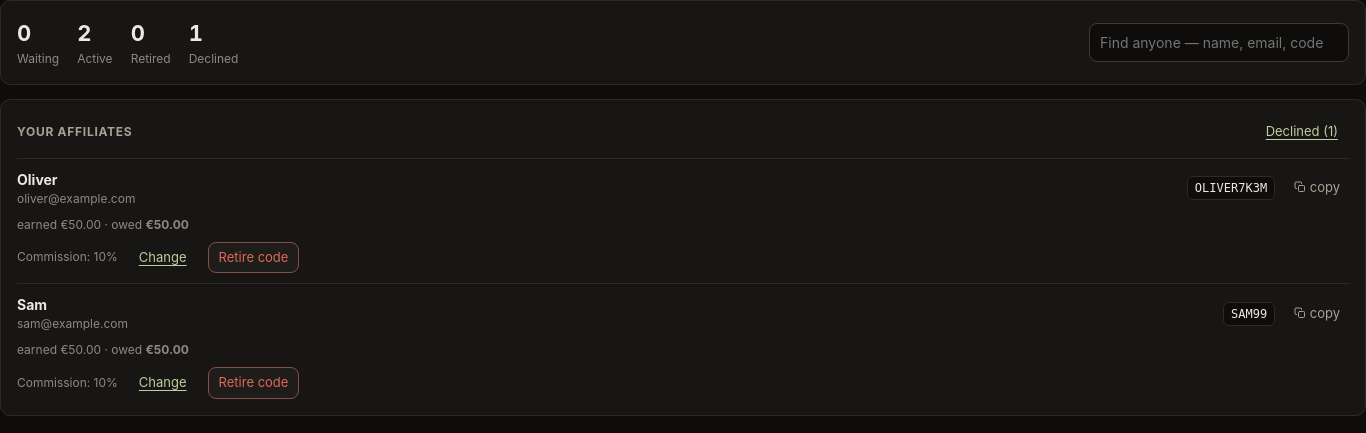
Scenario: finding one person among many (founder, 2026-08-23) › finds anyone by name, email, code or what they said at sign-up — including the declined
The image size is (1366, 433).
Type "maria" into the search field named "find an affiliate" at {"x": 1219, "y": 42}, box x1=1089 y1=23 x2=1349 y2=62
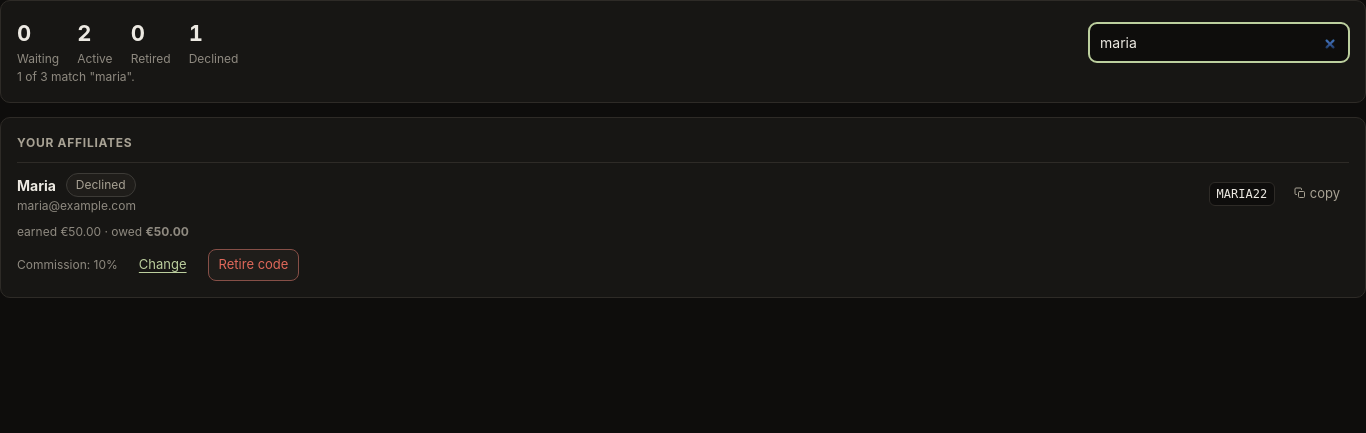
Result: the text "1 of 3 match \"maria\"." is shown at x1=17 y1=69 x2=135 y2=84
Result: the text "Maria" is shown at x1=17 y1=174 x2=56 y2=196
Result: the text "Oliver" is gone
Replace the text in the search field named "find an affiliate" with "youtube" at {"x": 1219, "y": 42}, box x1=1089 y1=23 x2=1349 y2=62
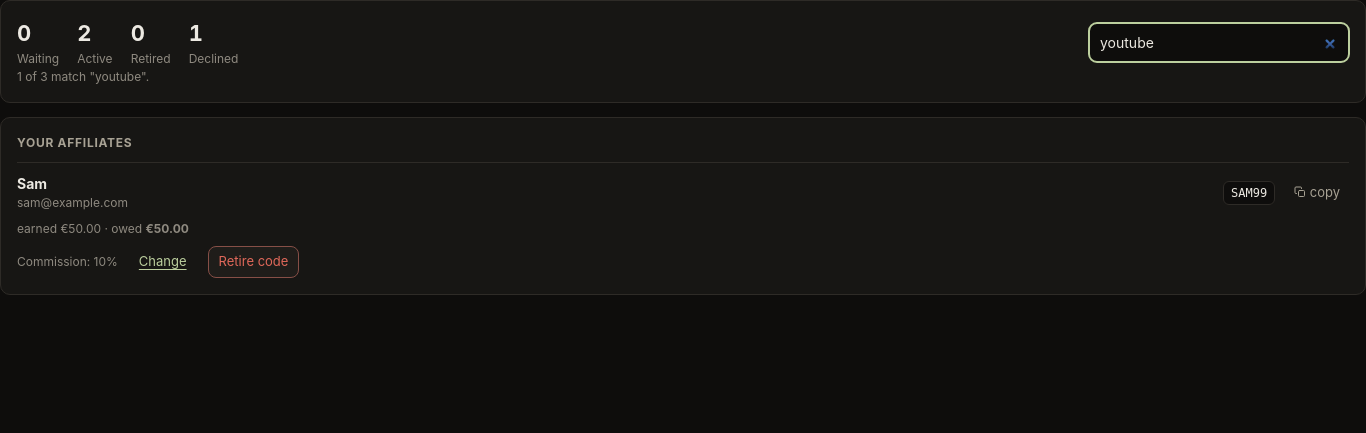
Result: the text "Sam" is shown at x1=17 y1=173 x2=47 y2=194
Replace the text in the search field named "find an affiliate" with "zzz" at {"x": 1219, "y": 42}, box x1=1089 y1=23 x2=1349 y2=62
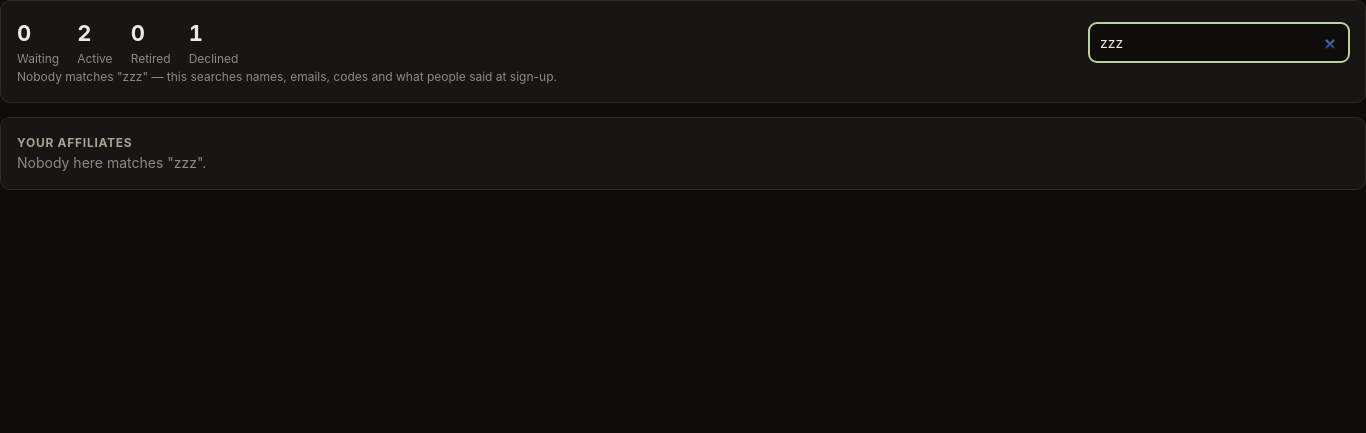
Result: the text "Nobody matches \"zzz\"" is shown at x1=17 y1=69 x2=557 y2=84
